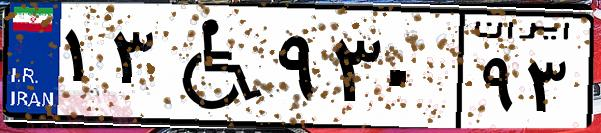0: (385, 28, 445, 110)
1: (57, 26, 110, 100)
3: (330, 28, 385, 110), (525, 38, 570, 115), (110, 28, 158, 98)
9: (270, 28, 330, 110), (475, 38, 525, 113)
ژ (معلولین و جانبازان): (158, 12, 270, 120)
